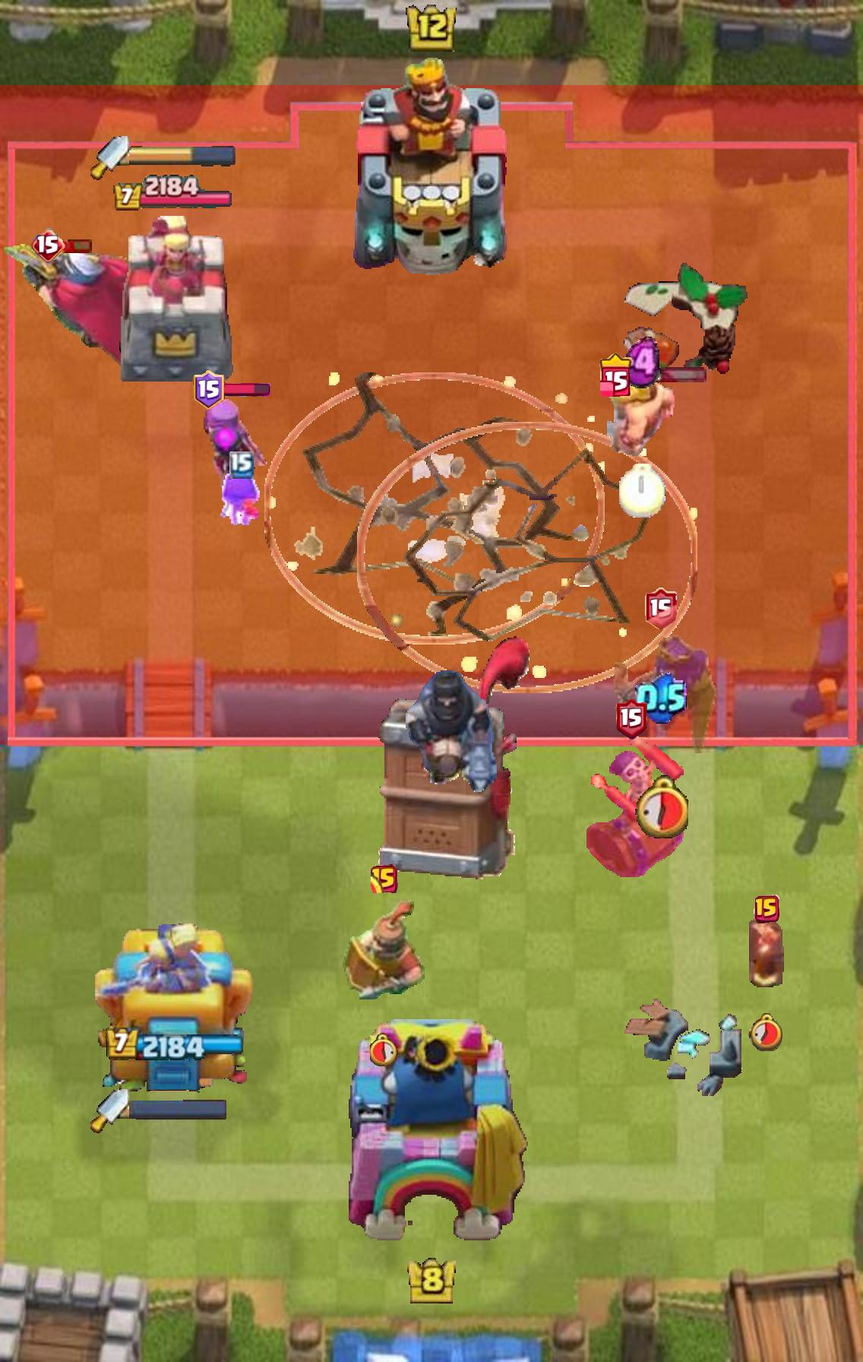bar: (628, 366, 707, 383), (220, 383, 270, 397), (62, 237, 93, 254)
bar-level: (599, 353, 632, 397), (645, 587, 677, 629), (192, 370, 224, 410), (615, 699, 647, 739), (31, 228, 66, 263), (371, 864, 398, 893), (754, 895, 779, 923)
